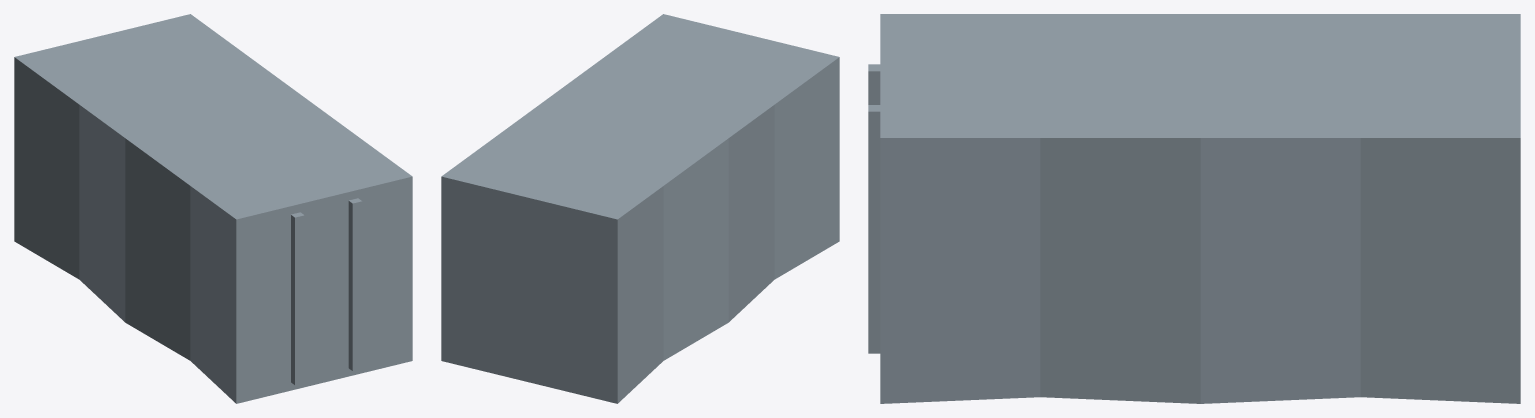
The model's file is container.glb.
The picture shows the model from 3 angles, left to right: view 1: azimuth 30°, elevation 25°; view 2: azimuth 150°, elevation 25°; view 3: azimuth 270°, elevation 25°; orthographic projection. The views are drawn at different scales.
Visible parts, largest first — view 1: Body; view 2: Body; view 3: Body.
Part boxes in pixels (box(x1,y1,x2,y2)): Body: box(14, 14, 412, 403); Body: box(441, 14, 839, 403); Body: box(868, 14, 1520, 403).
Size of the model in its own units: 1.1 by 1.1 by 2.45.
